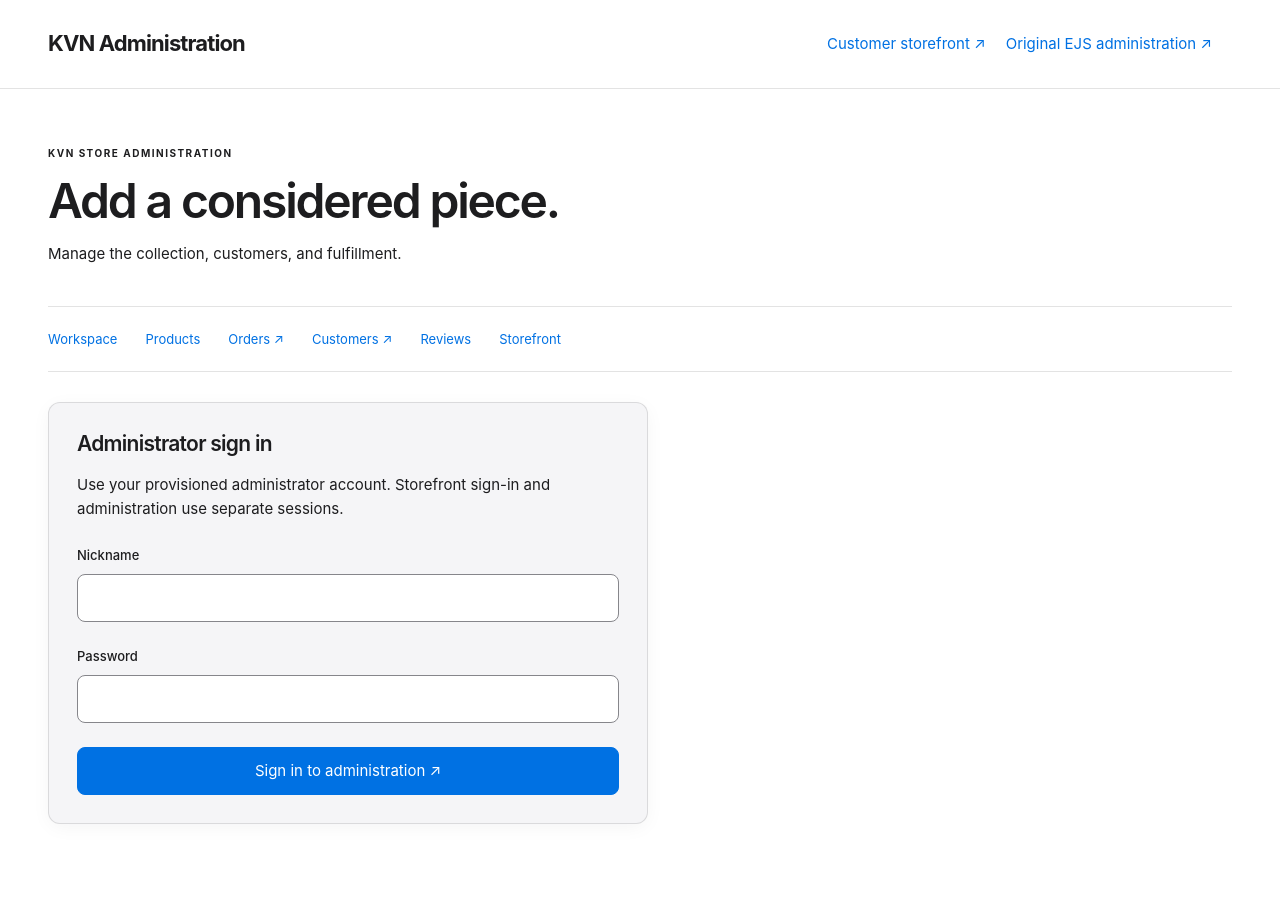
Test: shows administrator login independently of customer authentication and rejects a shopper
In the field named "memberNick": (348, 598) [77,574,619,622], type "Fictional shopper"
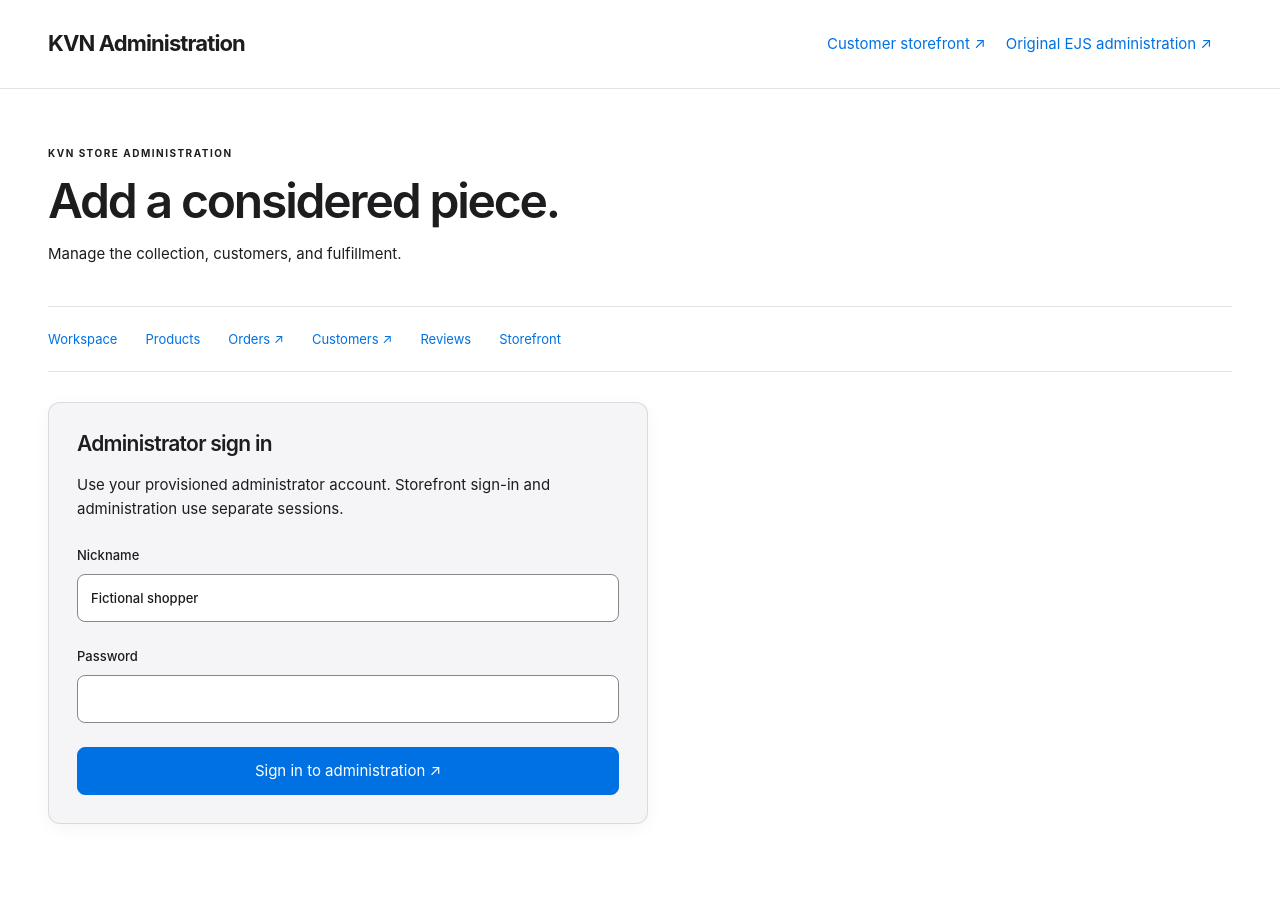
In the password field named "memberPassword": (348, 699) [77,675,619,723], type "test-only-password"
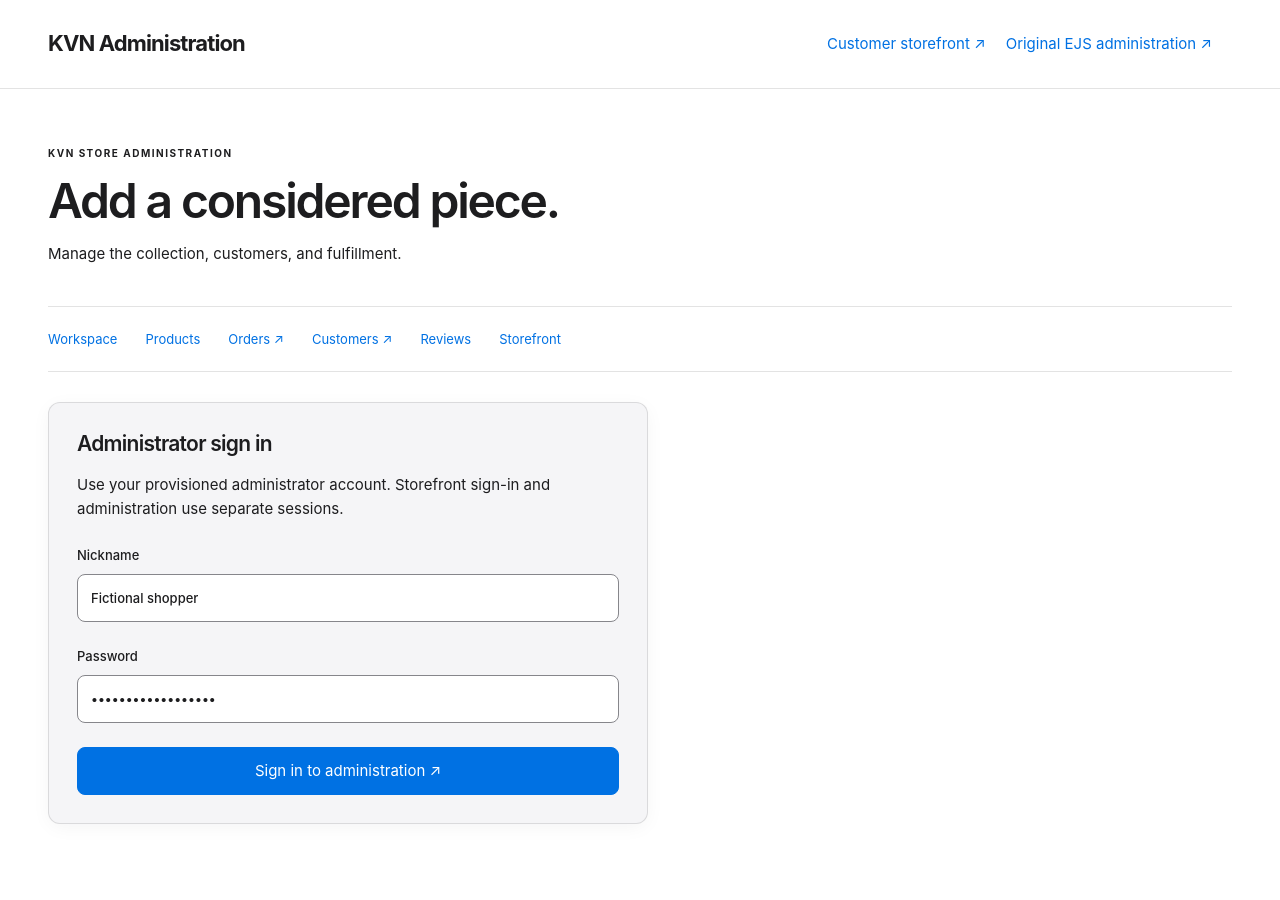
Submit the form, box [77,545,619,795]
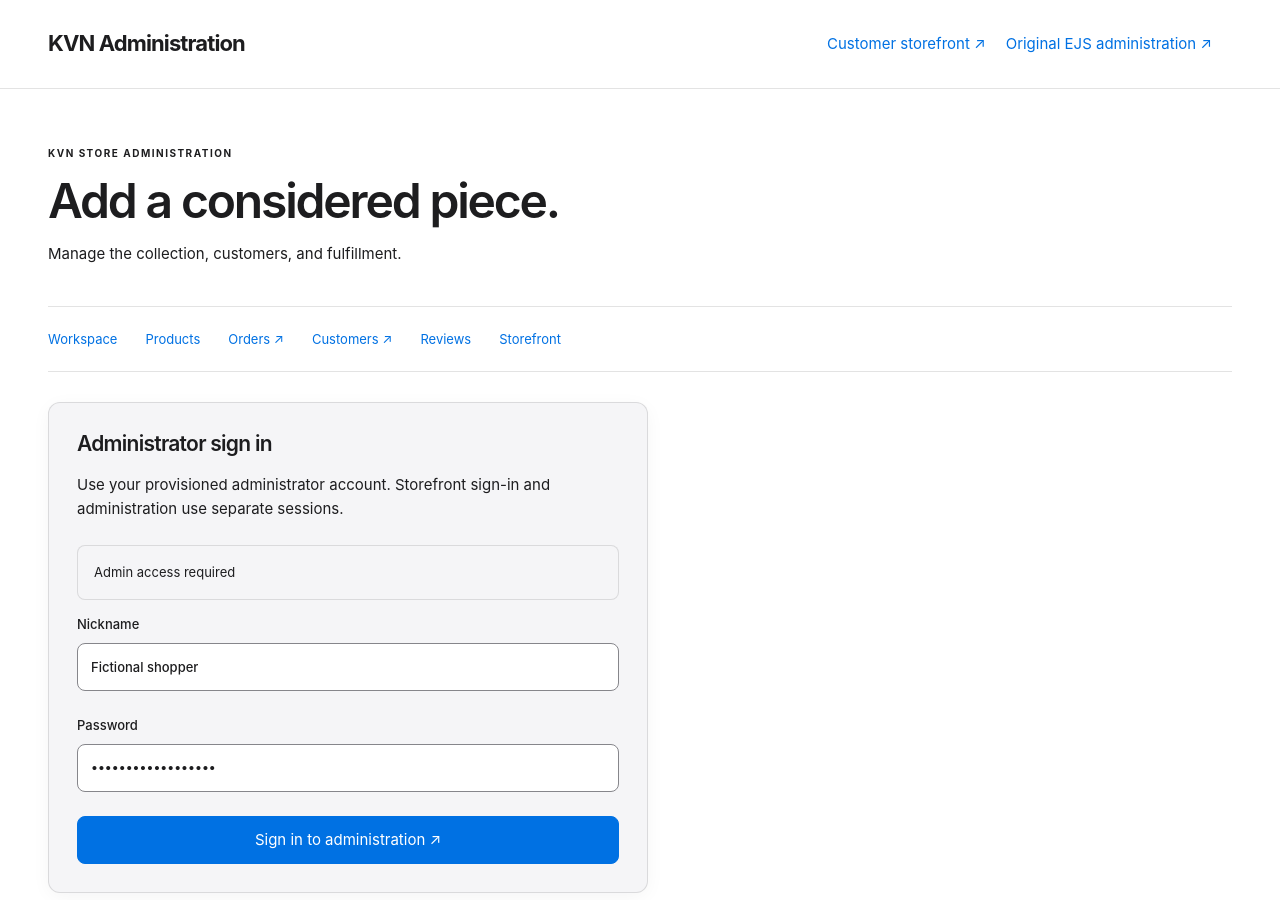
Now the text "Admin access required" is shown, box [94,562,235,583]
